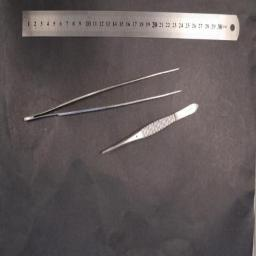DeBakey Dissector: (24, 67, 182, 121)
Gillies Toothed Dissector: (102, 104, 200, 156)
